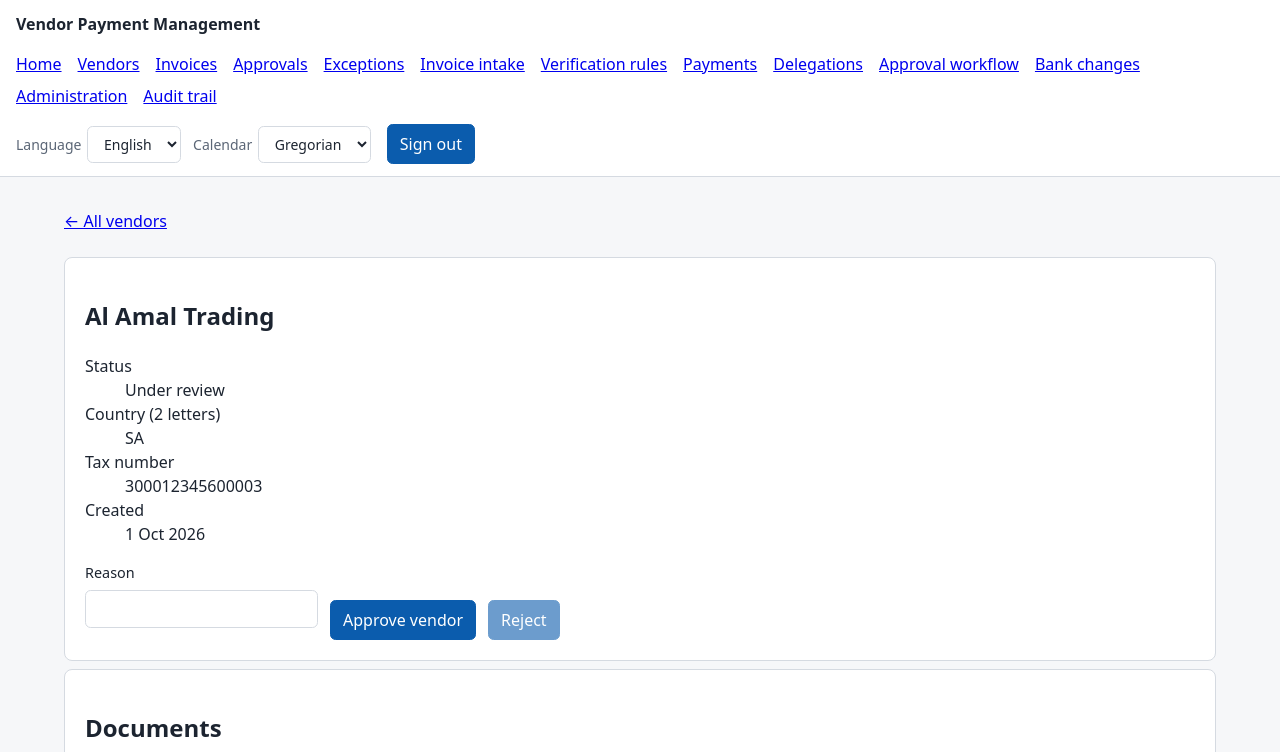
Test: vendors › shows a segregation-of-duties refusal for approving your own vendor
Click the button "Approve vendor" at [403, 620], box [330,600,476,640]
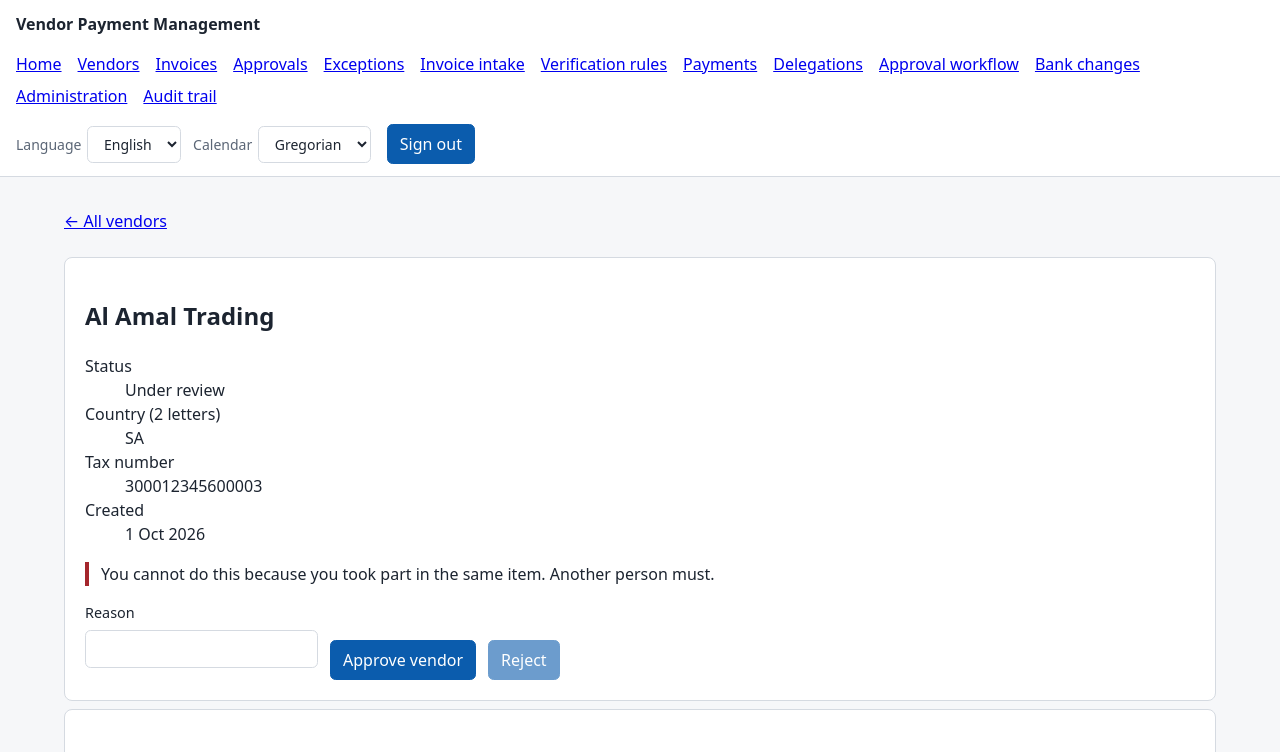
Expected: the message shows "You cannot do this because you took part in the same item", [101,563,714,585]
